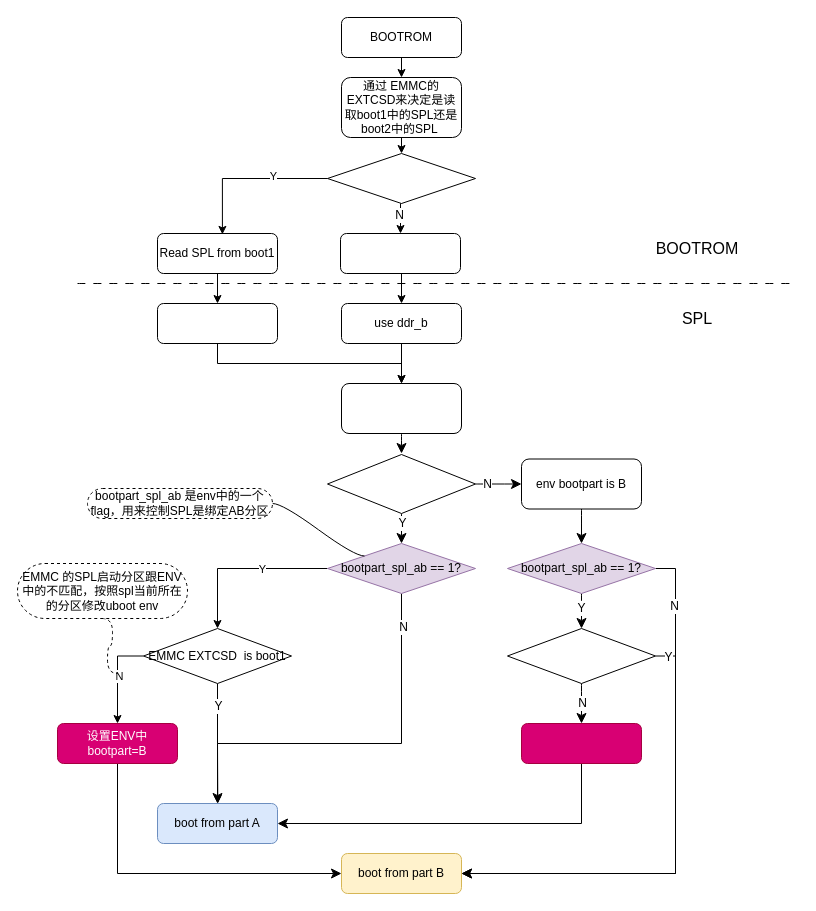
This 816x911 diagram has some shape labels left out. The centre of each missing label's shape, as x and y in pixels:
"EMMC EXTCSD is boot2" goes at pixel 581 656.
"env bootpart is A?" goes at pixel 401 484.
"EXTCSD 中 bootpart is boot1?" goes at pixel 401 178.
"Read SPL from boot2" goes at pixel 400 253.
"Read uboot ENV From EMMC" goes at pixel 401 408.
"use ddr_a" goes at pixel 217 323.
"设置ENV中 bootpart=A" goes at pixel 581 743.
